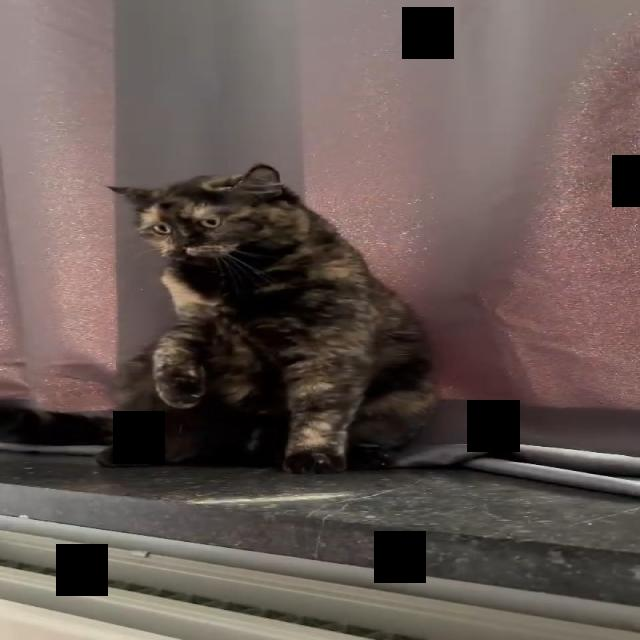authorized: (95, 162, 440, 475)
